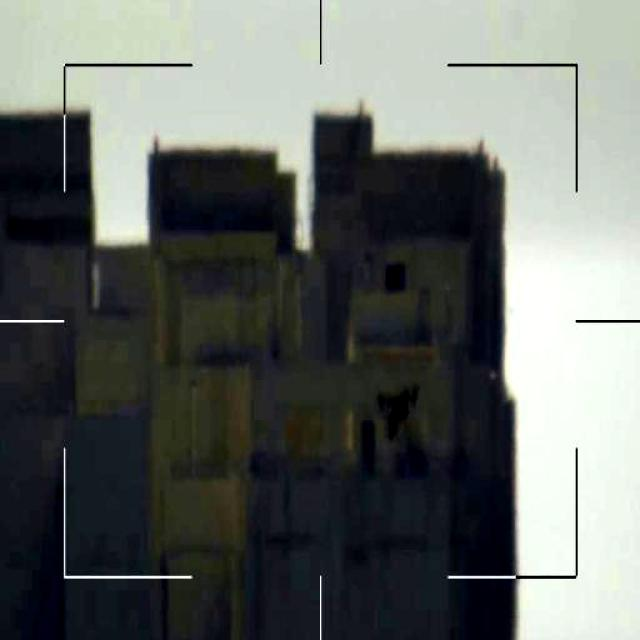bird: (378, 385, 426, 448)
